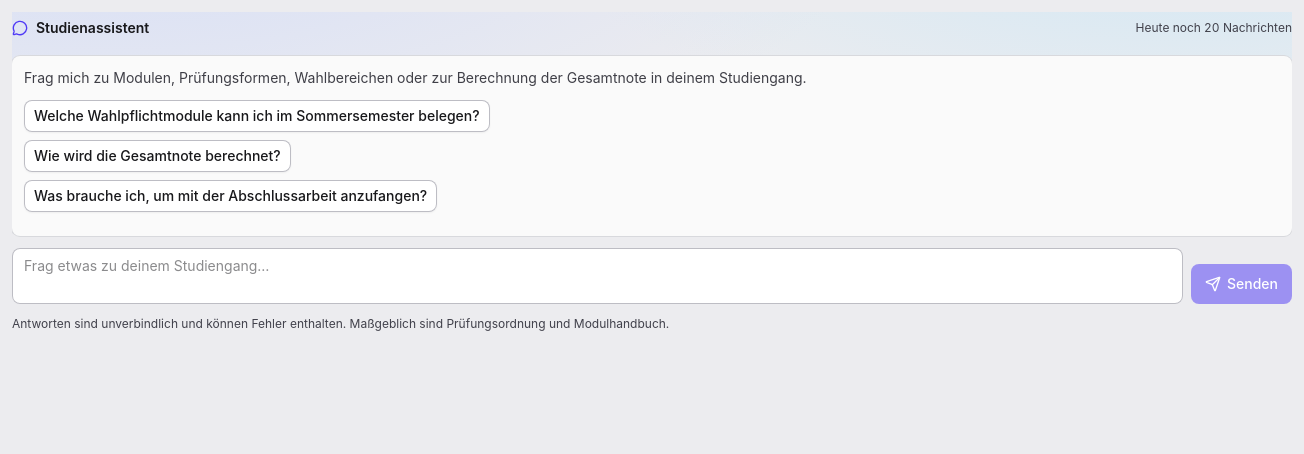
study assistant › renders answers as Markdown without raw HTML, images or unsafe links
Type "Welche Wahlmodule gibt es?" into the text box named "Deine Frage" at (598, 276), box [12, 248, 1183, 304]
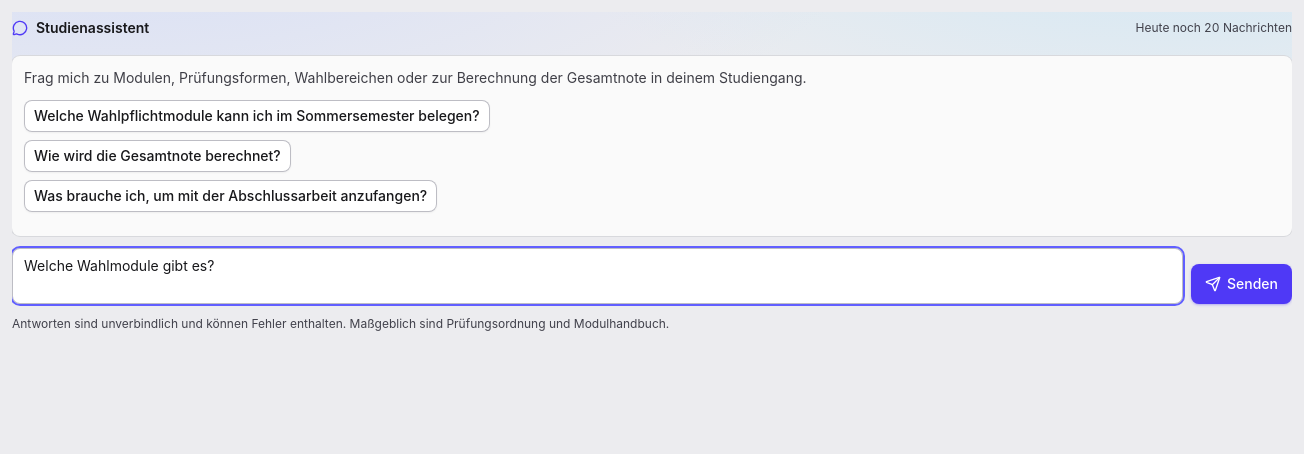
Click the button "Senden" at (1242, 284), box [1191, 264, 1292, 304]
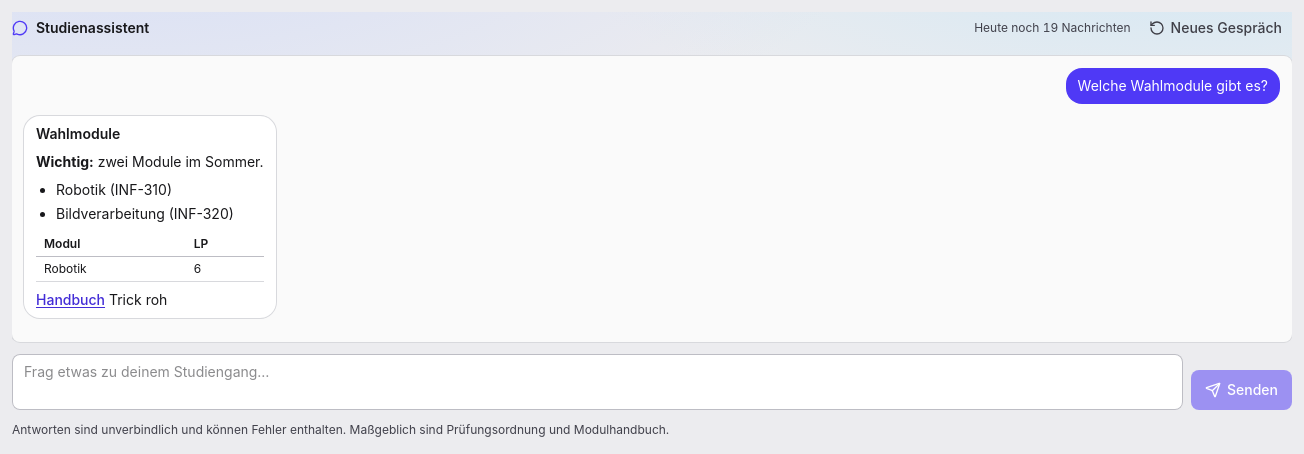
expect the cell "6" is shown: met, box [186, 256, 264, 282]
